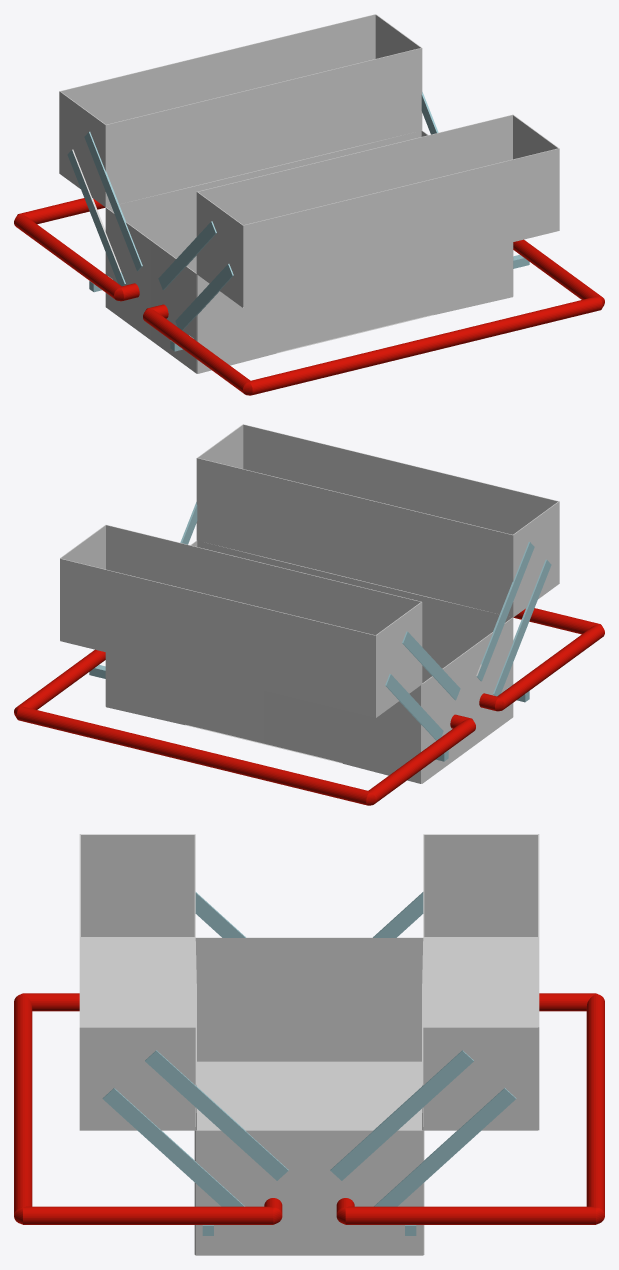
File: toolbox.fbx
3 views of the same model, one above another, from view 1: azimuth 30°, elevation 25°; view 2: azimuth 150°, elevation 25°; view 3: azimuth 270°, elevation 25° (orthographic). The views are drawn at different scales.
Visible parts, largest first — view 1: box, handle, plate; view 2: box, handle, plate; view 3: box, handle, plate.
Boxes of the visible parts, left/top/right/bottom form: box: left=59, top=14, right=559, bottom=373; handle: left=14, top=198, right=604, bottom=395; plate: left=67, top=92, right=529, bottom=351; box: left=60, top=424, right=559, bottom=783; handle: left=14, top=608, right=604, bottom=805; plate: left=89, top=502, right=551, bottom=761; box: left=79, top=834, right=539, bottom=1255; handle: left=14, top=993, right=604, bottom=1224; plate: left=102, top=892, right=516, bottom=1235.
Bounding box in the file's own units: 460 × 221 × 520.
